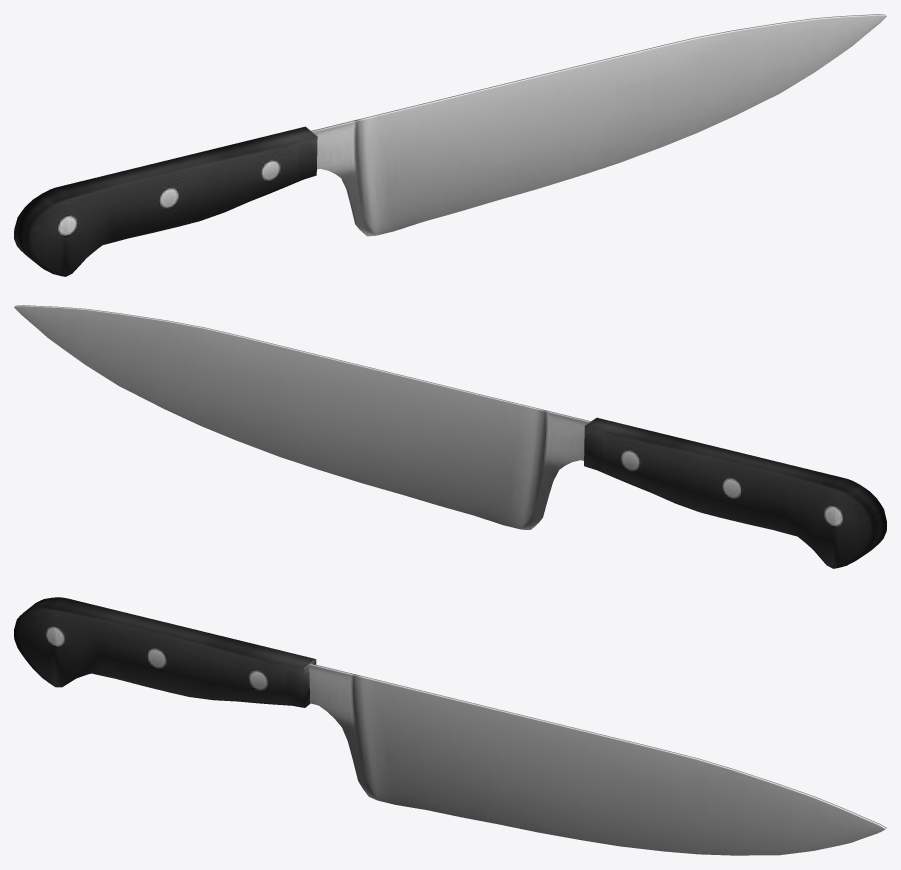
Rendered from knife.gltf.
3 views of the same model, one above another, from view 1: azimuth 30°, elevation 25°; view 2: azimuth 150°, elevation 25°; view 3: azimuth 330°, elevation 25° (orthographic).
Parts seen in each view (by area): view 1: Blade, Handle; view 2: Blade, Handle; view 3: Blade, Handle.
Boxes of the visible parts, box(x1,y1,x2,y2) form: Blade: box(311, 14, 886, 236); Handle: box(14, 126, 317, 276); Blade: box(14, 305, 590, 529); Handle: box(584, 417, 886, 568); Blade: box(309, 663, 886, 855); Handle: box(14, 597, 316, 707).
Size of the model in its own units: 4.76 by 0.641 by 0.1293.
Materials: 2 (2 with a texture image).
